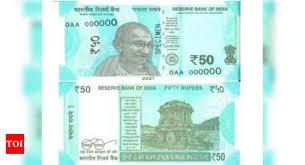fifty: (64, 14, 234, 69)
